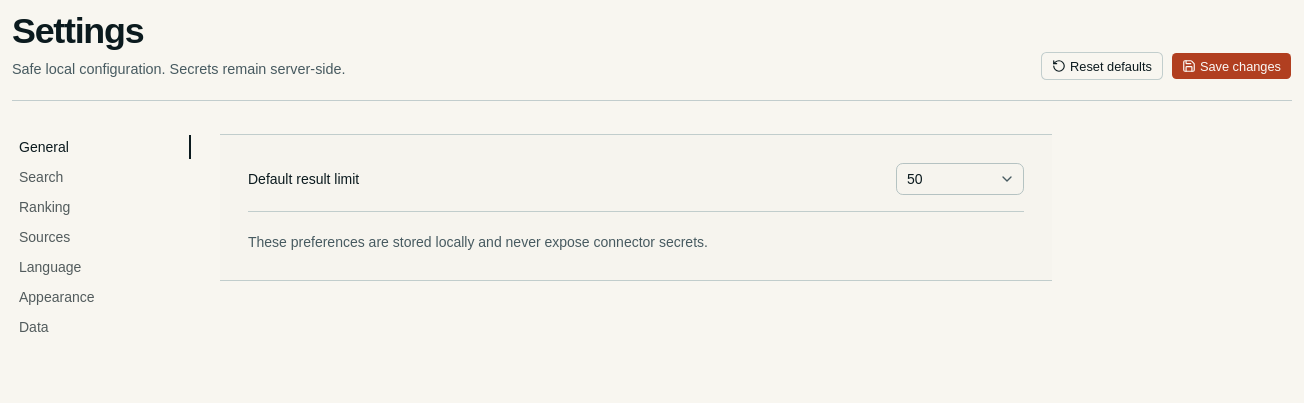
Test: application workflows › loads and saves safe settings
This screenshot has width=1304, height=403.
Check: the text "These preferences are stored locally" is shown, box [248,234,708,250]
Click the button "Save changes" at (1231,66), box [1171,52,1292,80]
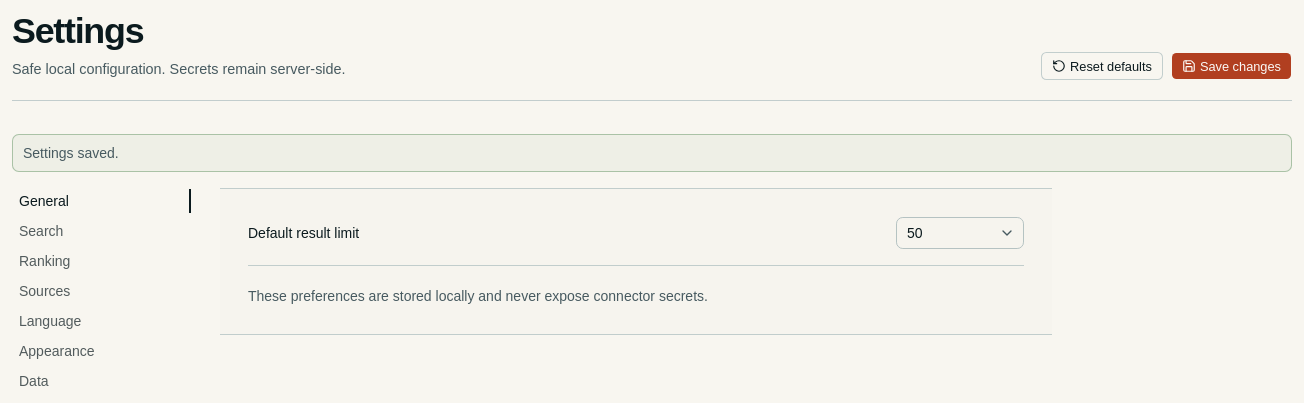
Check: the text "Settings saved." is shown, box [23,146,119,162]
